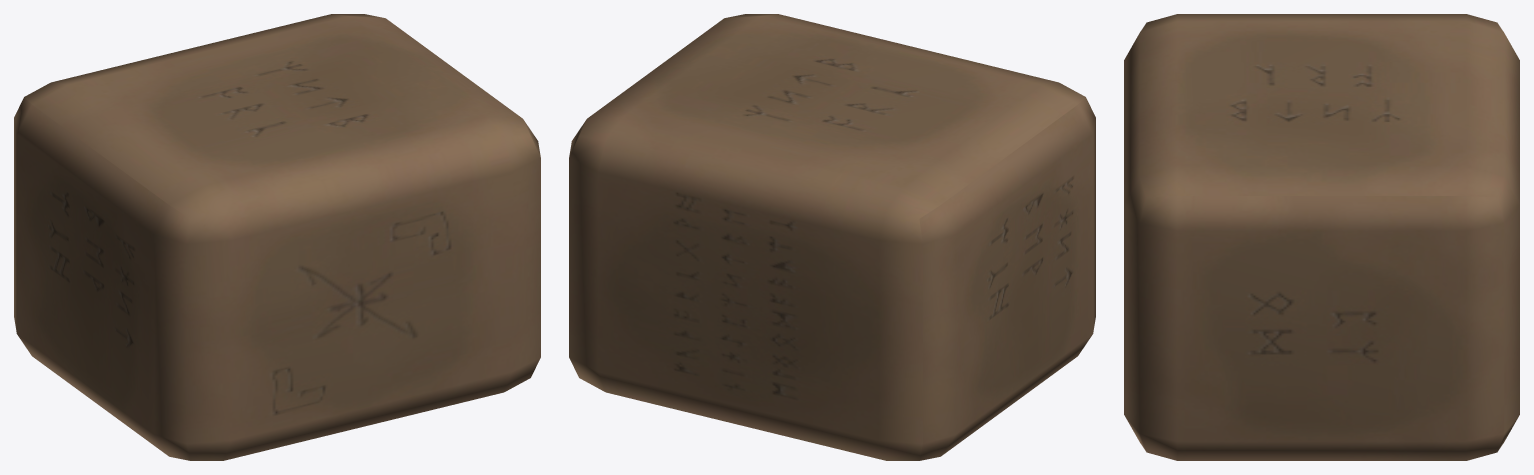
The model's file is rocabloque.fbx.
3 renders of one model, left to right at view 1: azimuth 30°, elevation 25°; view 2: azimuth 150°, elevation 25°; view 3: azimuth 270°, elevation 25°, orthographic. The views are drawn at different scales.
Parts seen in each view (by area): view 1: pCube1; view 2: pCube1; view 3: pCube1.
Part boxes in pixels (<box>): pCube1: <box>14,14,540,460</box>; pCube1: <box>569,14,1095,460</box>; pCube1: <box>1124,14,1519,460</box>.
Bounding box in the file's own units: 10.84 × 7.37 × 9.19.
